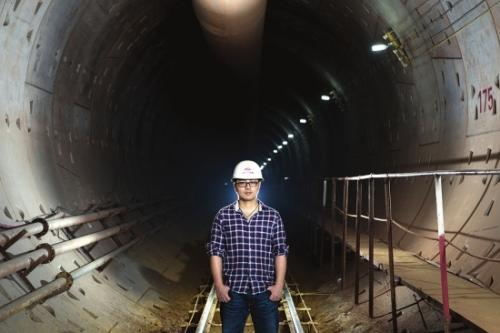helmet: (231, 156, 264, 204)
